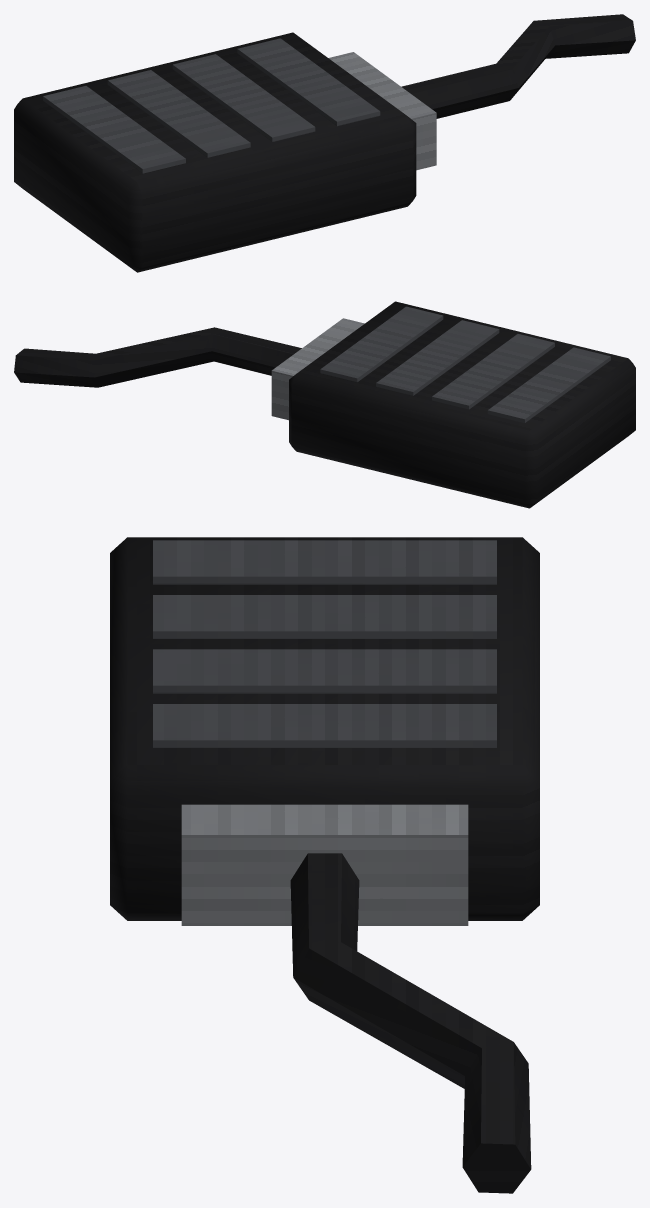
File: ecu_fabrica.glb
3 views of the same model, one above another, from view 1: azimuth 30°, elevation 25°; view 2: azimuth 150°, elevation 25°; view 3: azimuth 270°, elevation 25° (orthographic). The views are drawn at different scales.
Visible parts, largest first — view 1: ecu_fabrica; view 2: ecu_fabrica; view 3: ecu_fabrica.
Part boxes in pixels (box(x1,y1,x2,y2)): ecu_fabrica: box(14, 14, 635, 272); ecu_fabrica: box(14, 301, 635, 508); ecu_fabrica: box(110, 537, 539, 1193).
Bounding box in the file's own units: 0.4217 × 0.0635 × 0.15.
1 material, 1 textured.
